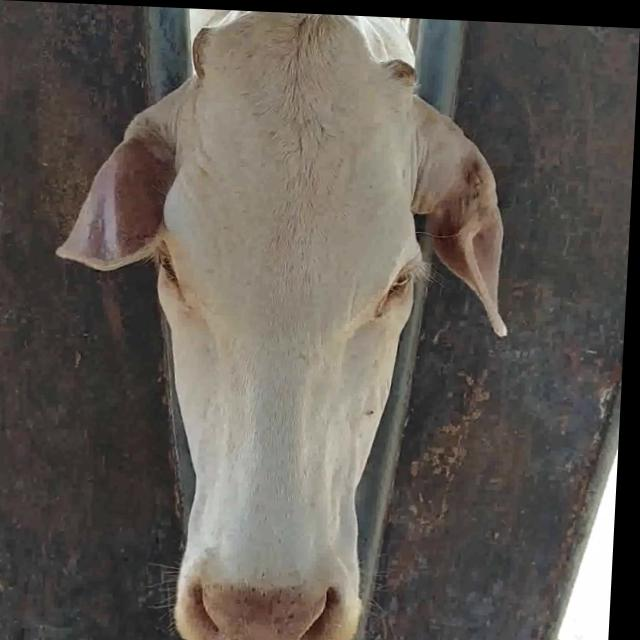cowFace: (148, 10, 430, 640)
